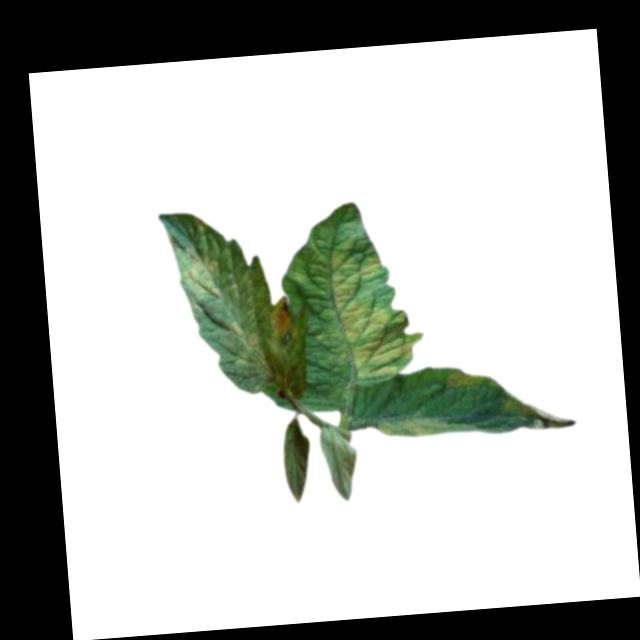Leaf_Mold: (308, 227, 426, 388), (226, 313, 283, 384), (498, 389, 580, 435), (375, 407, 476, 442), (180, 249, 225, 303), (441, 363, 493, 394), (269, 297, 298, 351)
